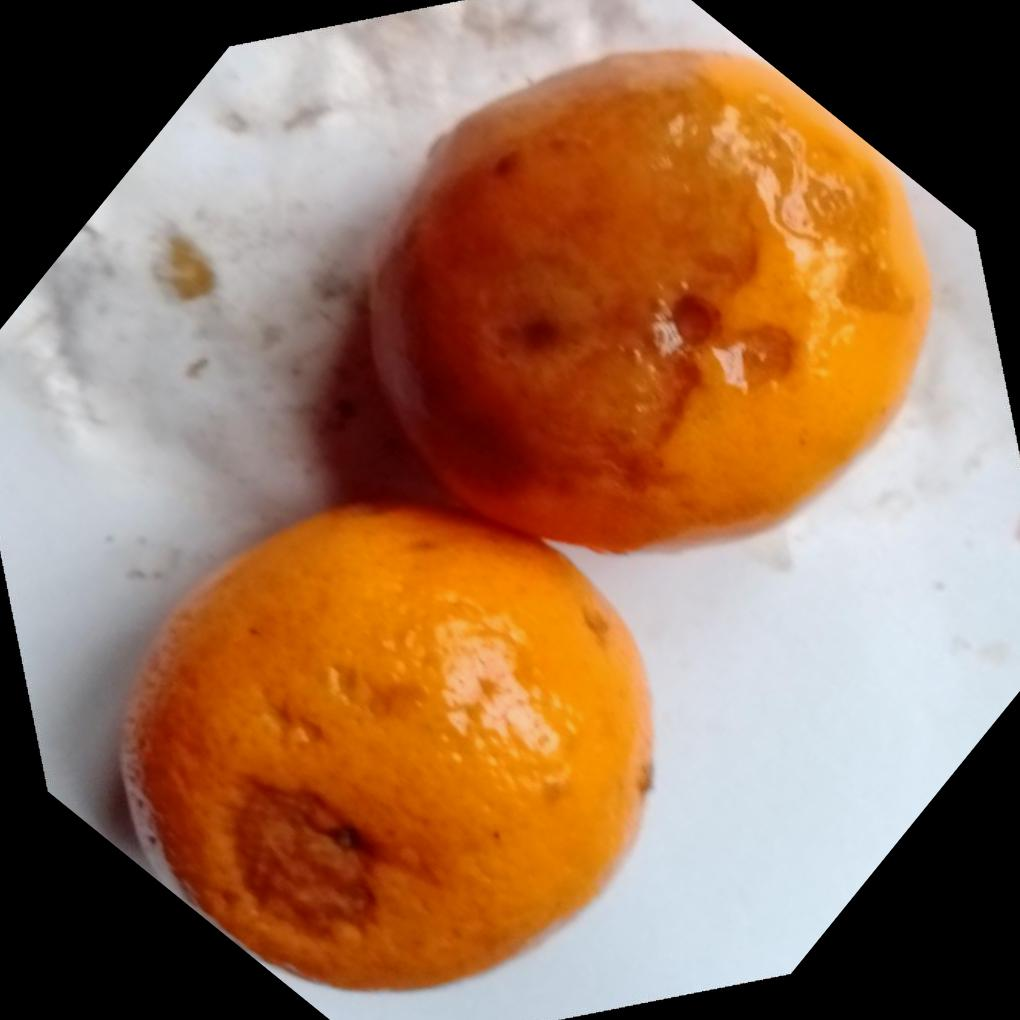FreshOrange: (115, 48, 934, 996)
